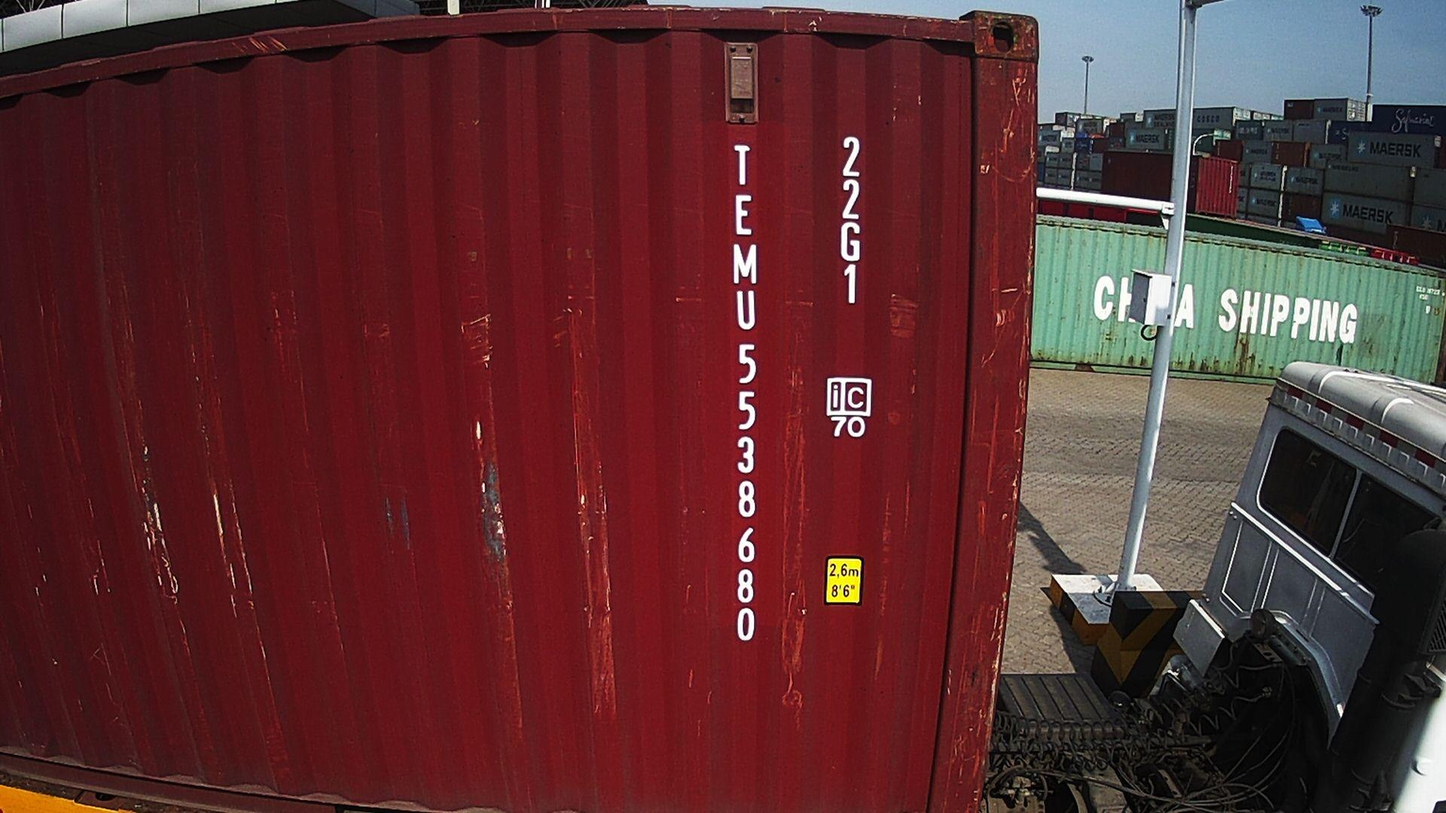container-numbers: (723, 134, 767, 653), (832, 134, 869, 310)
